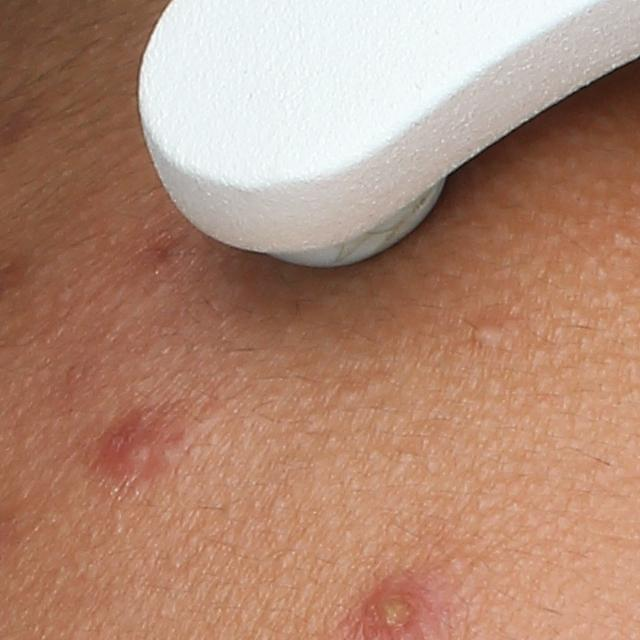comedo: (472, 320, 507, 348)
papule: (116, 427, 172, 471)
